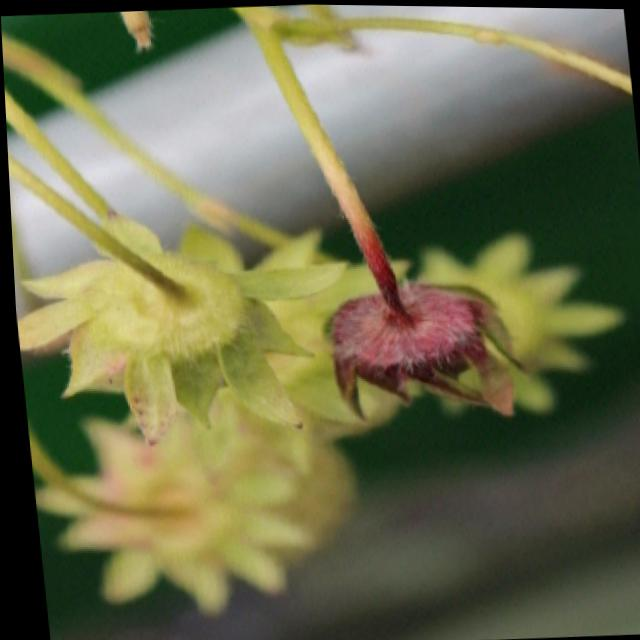Gray Mold: (323, 242, 527, 424)
